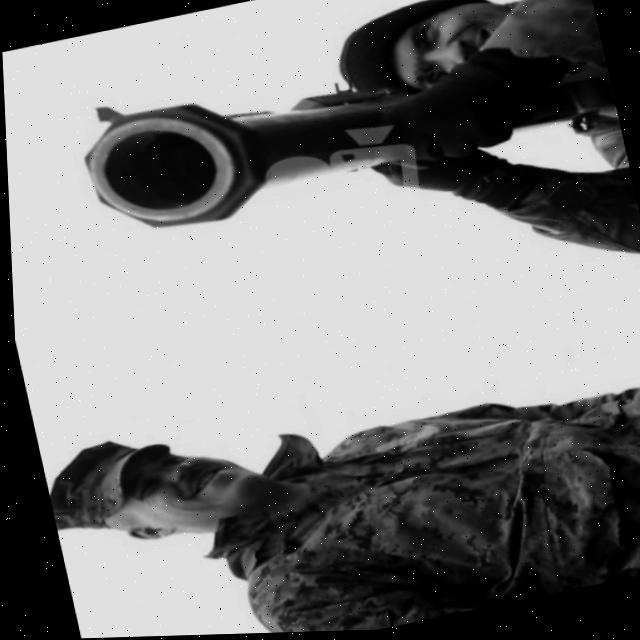rocket: (60, 52, 430, 267)
